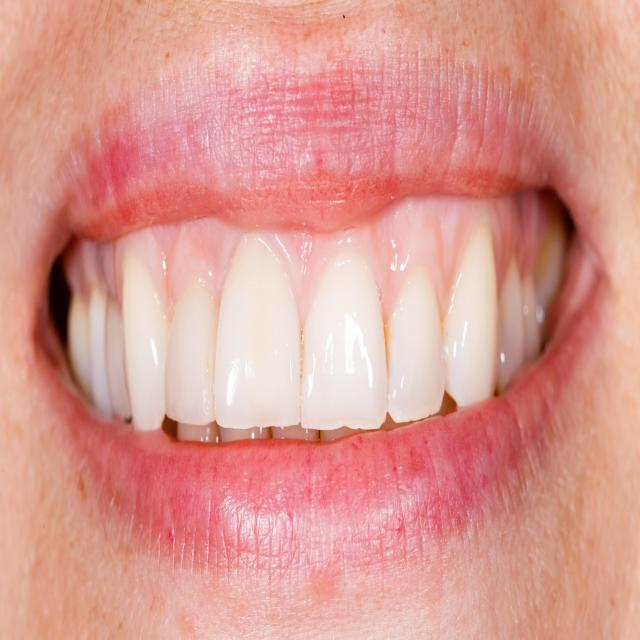Tooth: (215, 232, 301, 429), (301, 252, 388, 430), (443, 224, 499, 407), (385, 266, 445, 423), (122, 254, 170, 432), (165, 280, 218, 425)
